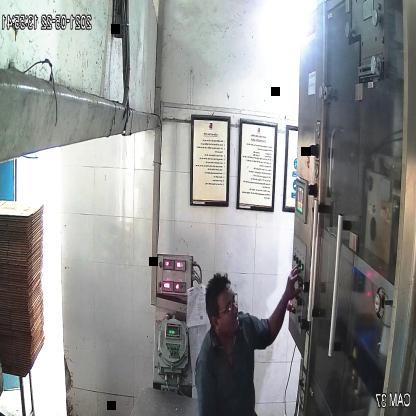goggles: (209, 290, 240, 326)
